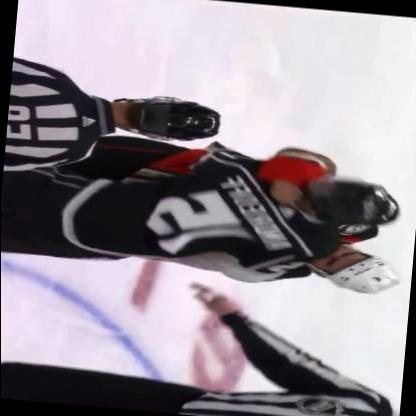voilence: (1, 121, 416, 300)
